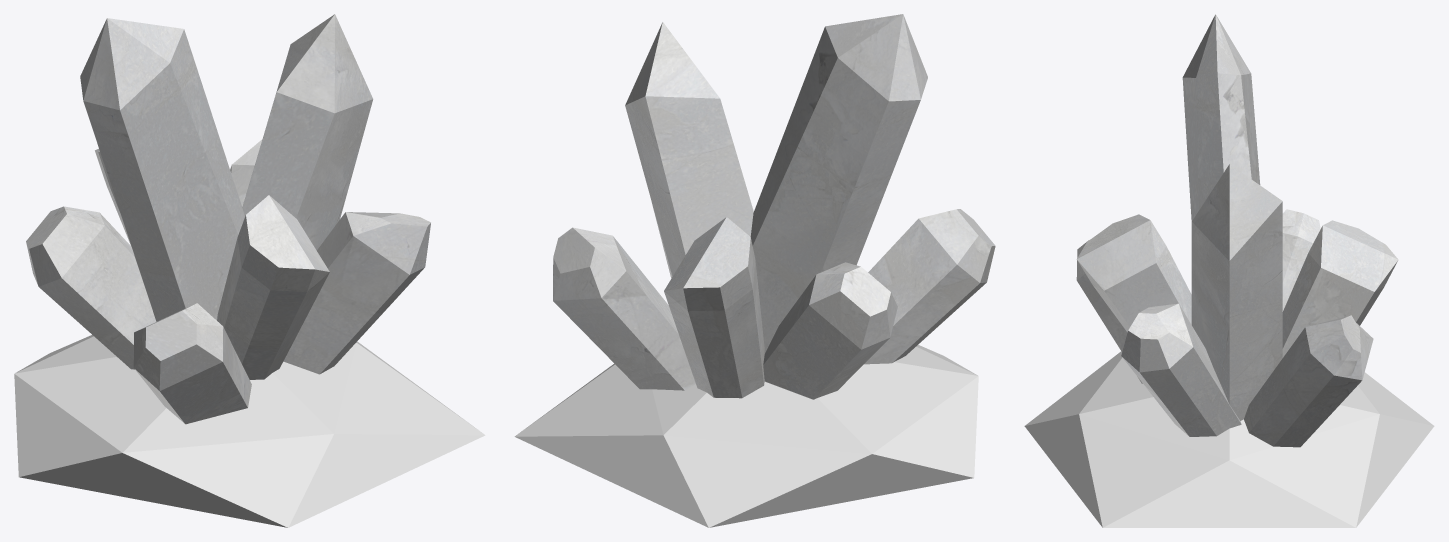
File: Jewelry.fbx
3 views of the same model, side by side, from view 1: azimuth 30°, elevation 25°; view 2: azimuth 150°, elevation 25°; view 3: azimuth 270°, elevation 25° (orthographic). The views are drawn at different scales.
Parts seen in each view (by area): view 1: 円柱, ICO球; view 2: 円柱, ICO球; view 3: 円柱, ICO球.
Part boxes in pixels (x1,y1,x2,y2): 円柱: (26, 14, 430, 424); ICO球: (14, 335, 485, 527); 円柱: (553, 14, 995, 399); ICO球: (514, 344, 978, 527); 円柱: (1076, 14, 1398, 447); ICO球: (1024, 351, 1434, 527).
Size of the model in its own units: 84.8 by 93.91 by 89.17.
